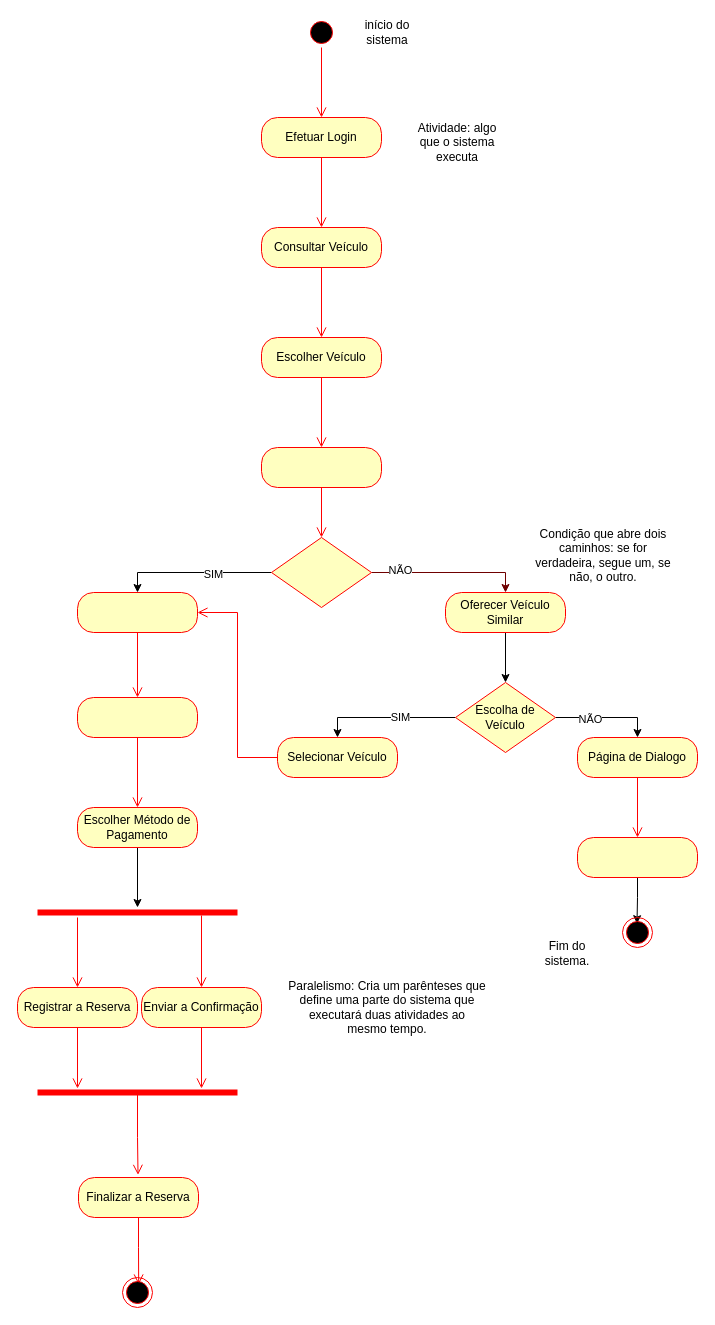
The diagram is 715 pixels wide and 1325 high, and some of its shapes have lost their labels. The centre of each missing label's shape, as x and y in pixels:
"Atendimento" belongs at (x=637, y=857).
"Informar Dia de Retirada" belongs at (x=137, y=612).
"Informar Horário de Retirada" belongs at (x=137, y=717).
"Verificar Disponibilidade" belongs at (x=321, y=467).
"Veículo Disponível" belongs at (x=321, y=572).
